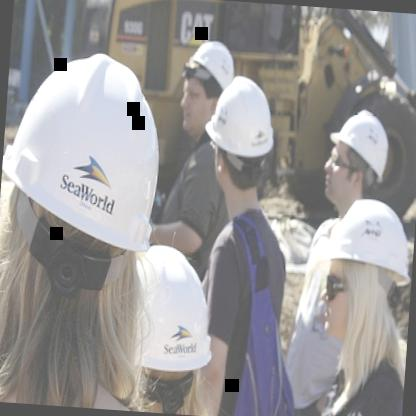helmet: (0, 21, 191, 322), (100, 222, 244, 416), (297, 163, 416, 377), (192, 56, 282, 188), (319, 94, 397, 217), (172, 20, 240, 145)
